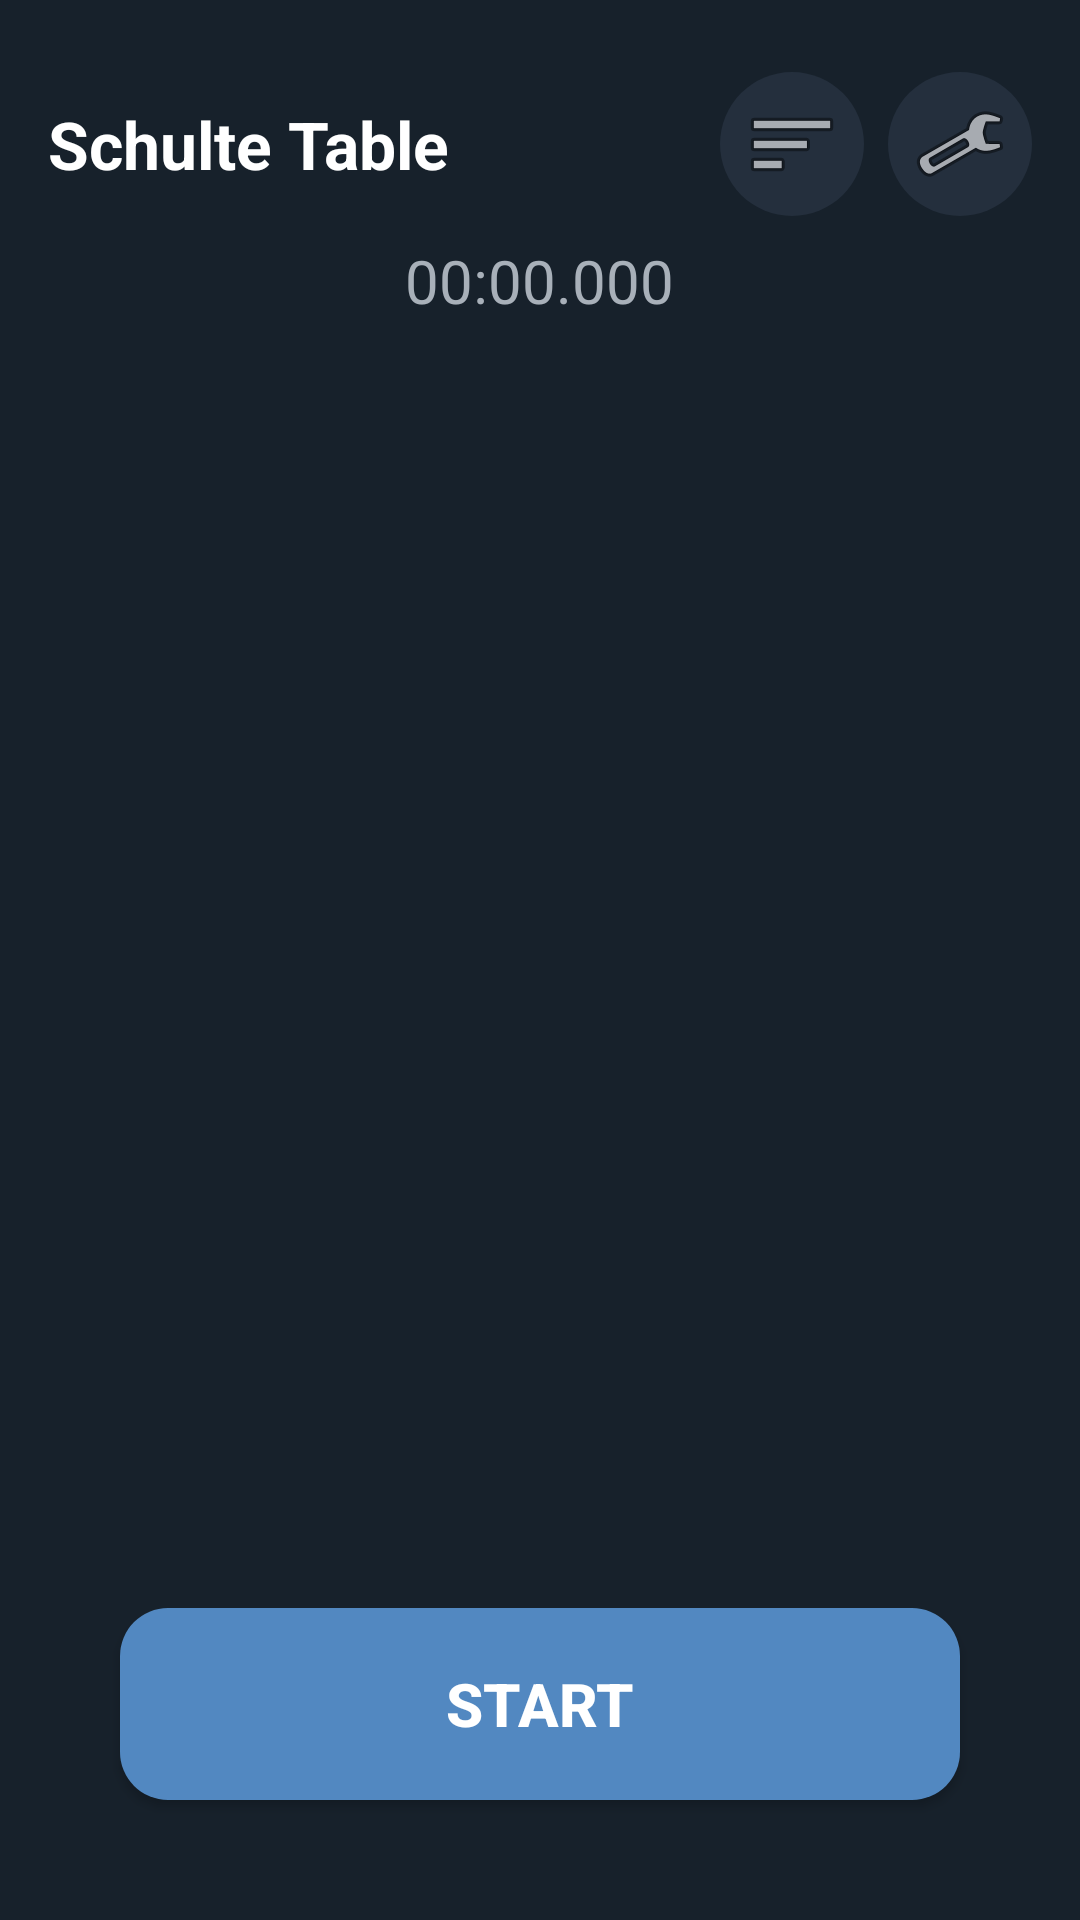

Icon click points for this 1080×1920 phone screenshot, format [x,y]:
Settings: [960,144]
Stats: [792,144]
